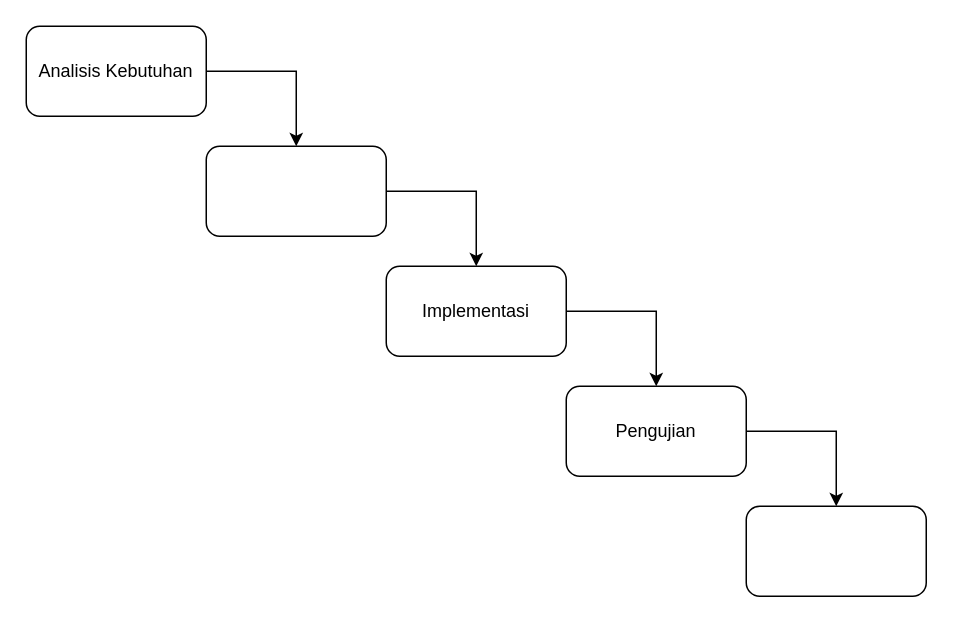
This 953x623 diagram has some shape labels left out. The centre of each missing label's shape, as x and y in pixels:
"Desain" goes at (x=295, y=190).
"Pemeliharaan" goes at (x=835, y=550).
